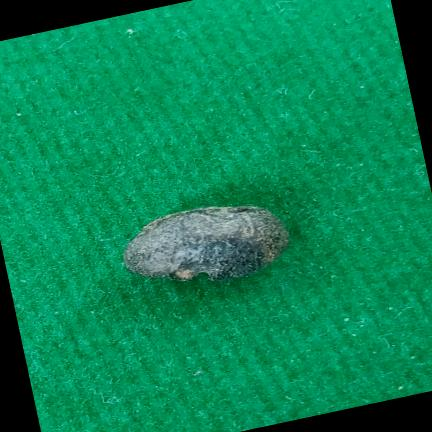partial-black: (124, 206, 289, 281)
